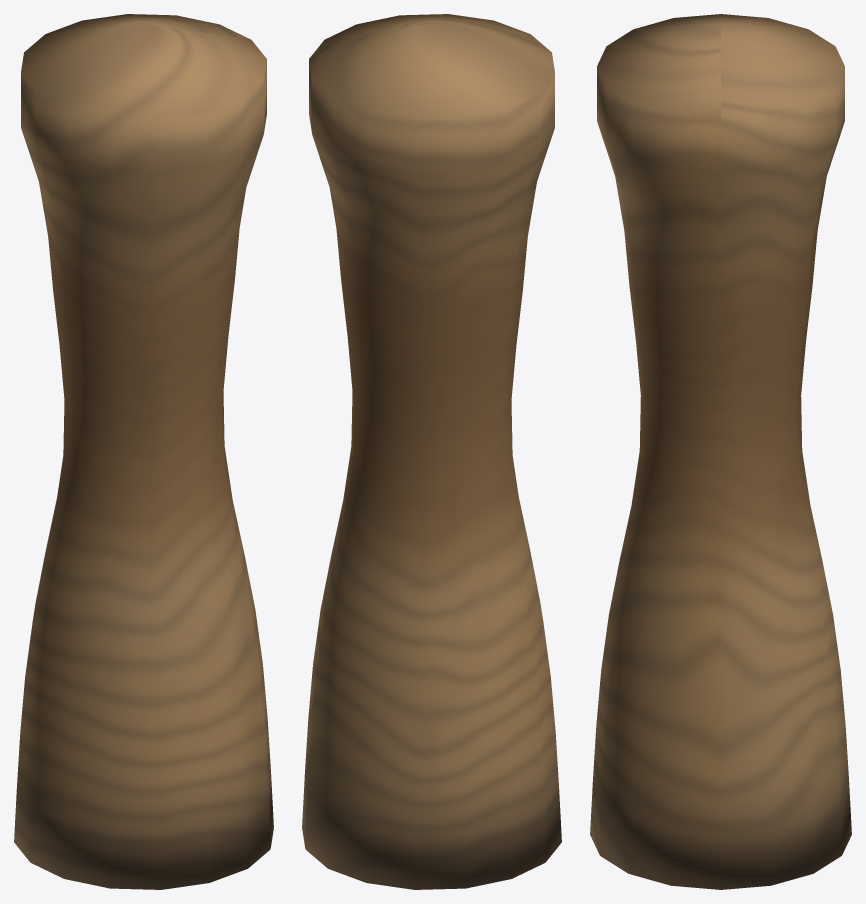
The model's file is thole_pin.glb.
3 renders of one model, left to right at view 1: azimuth 30°, elevation 25°; view 2: azimuth 150°, elevation 25°; view 3: azimuth 270°, elevation 25°, orthographic.
Visible parts, largest first — view 1: thole_pin_LOD0; view 2: thole_pin_LOD0; view 3: thole_pin_LOD0.
Boxes of the visible parts, x1,y1,x2,y2 form: thole_pin_LOD0: [14, 14, 273, 889]; thole_pin_LOD0: [302, 14, 561, 889]; thole_pin_LOD0: [590, 14, 851, 889].
Size of what is drawn, in the model's own units: 0.068 by 0.232 by 0.068.
Materials: 1 (1 with a texture image).
